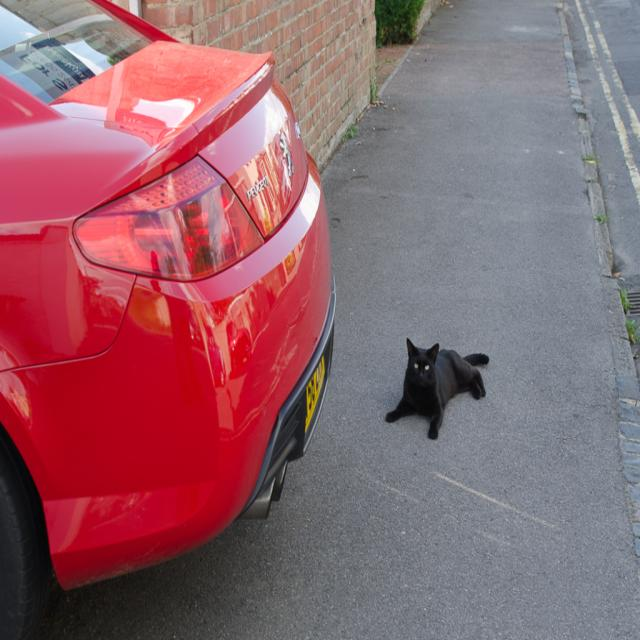Passenger Car: (1, 4, 338, 638)
